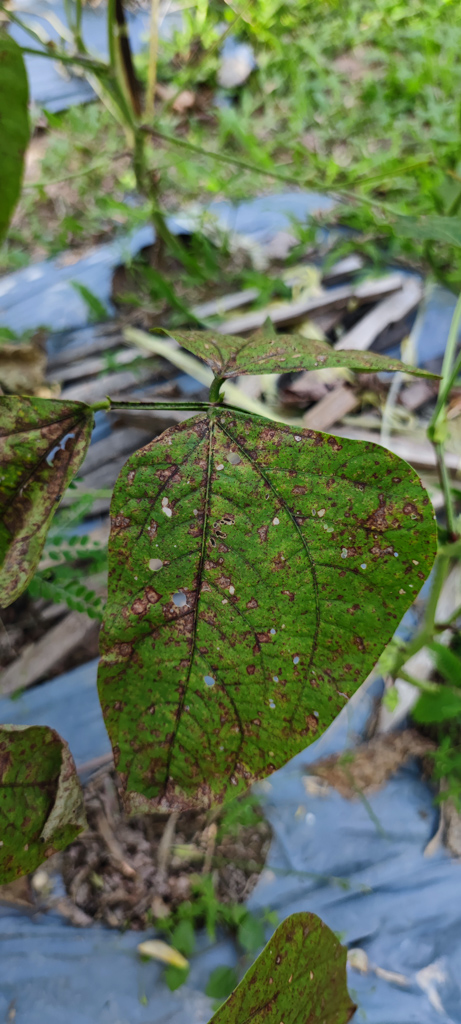Rust: (98, 408, 445, 833), (151, 310, 434, 393), (5, 390, 96, 638), (199, 911, 374, 1018), (3, 715, 90, 922)
